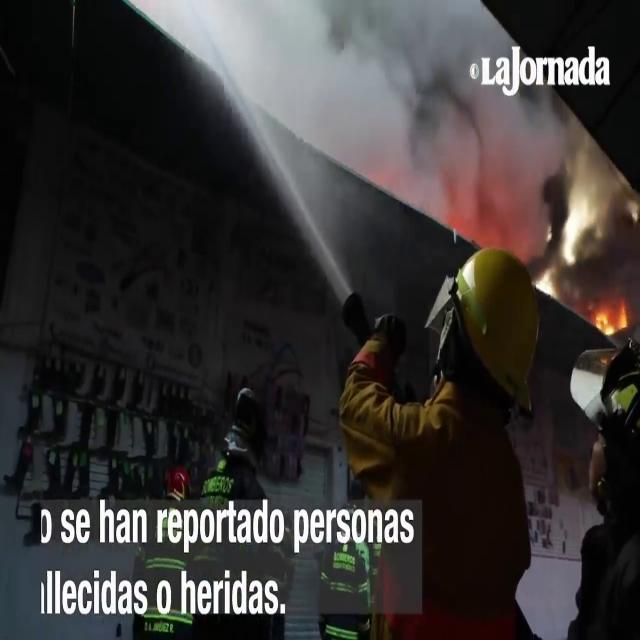Smoke: (324, 1, 564, 230), (550, 170, 640, 328), (590, 297, 632, 344)
